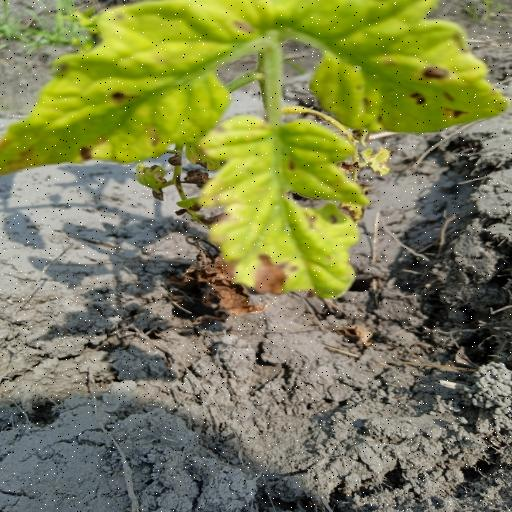Tomato_Brown_Spots: (194, 108, 376, 318)
